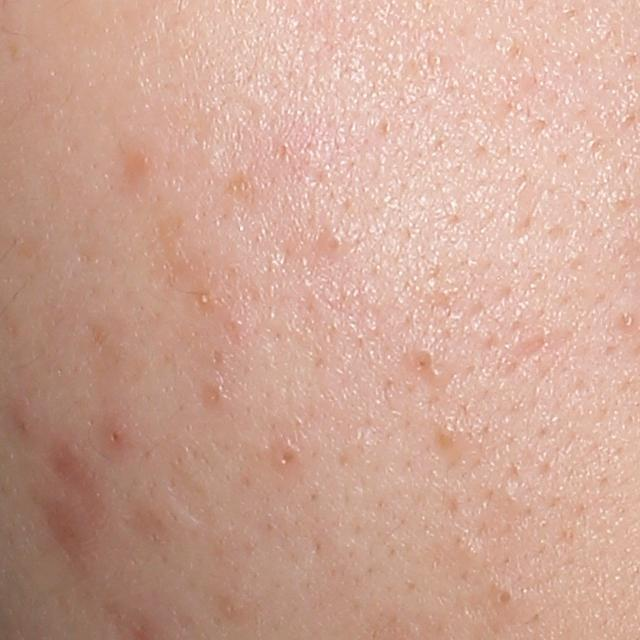comedo: (488, 580, 521, 614), (273, 439, 299, 470), (322, 230, 344, 255)
papule: (104, 420, 131, 448)
